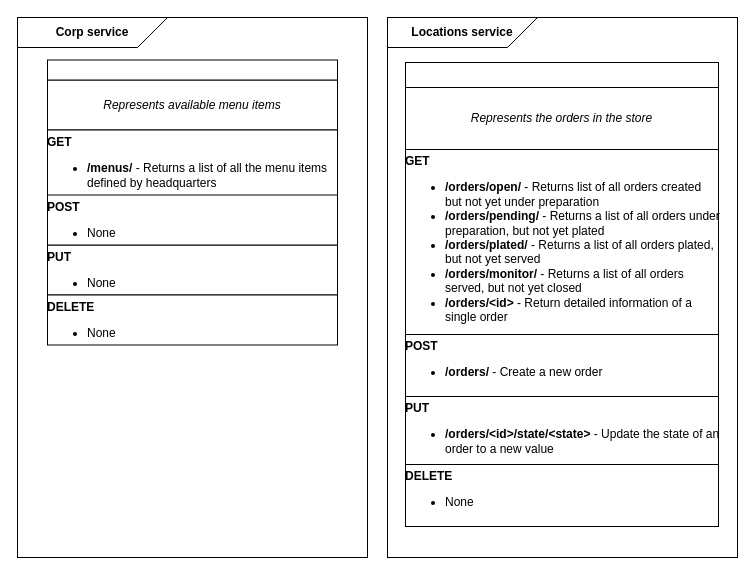
Image size: 755x575. Some labels were removed from this diagram. Each missing label, with the centre of its shape:
MENUS: point 192,69
ORDERS: point 561,75
